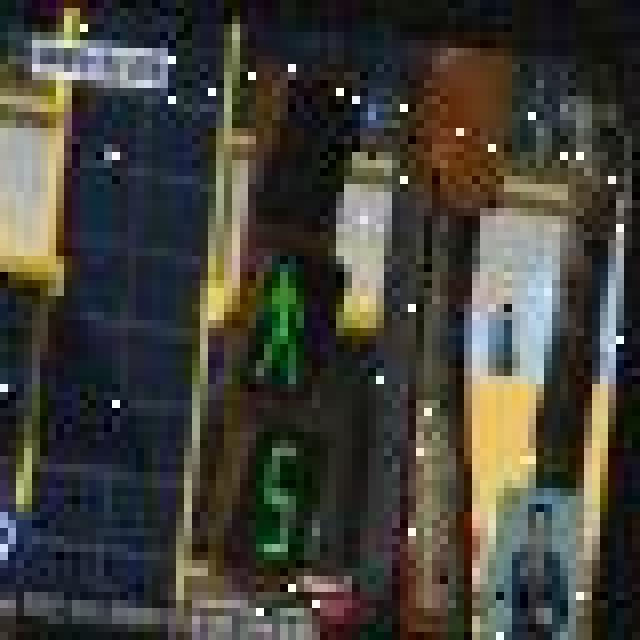greenlight: (226, 78, 367, 421)
